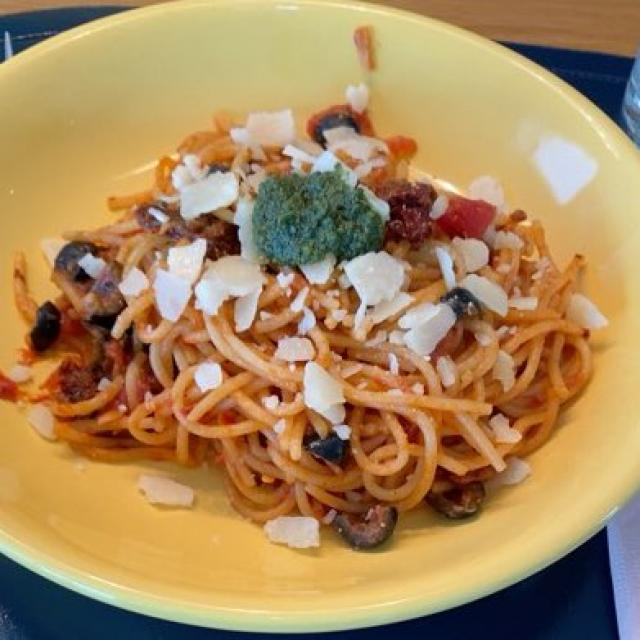parmesan: (121, 116, 497, 431)
pasta-spaghetti: (22, 109, 592, 537)
sauce-pesto: (245, 174, 389, 274)
sun-dried-tomatoe: (403, 190, 521, 253)
